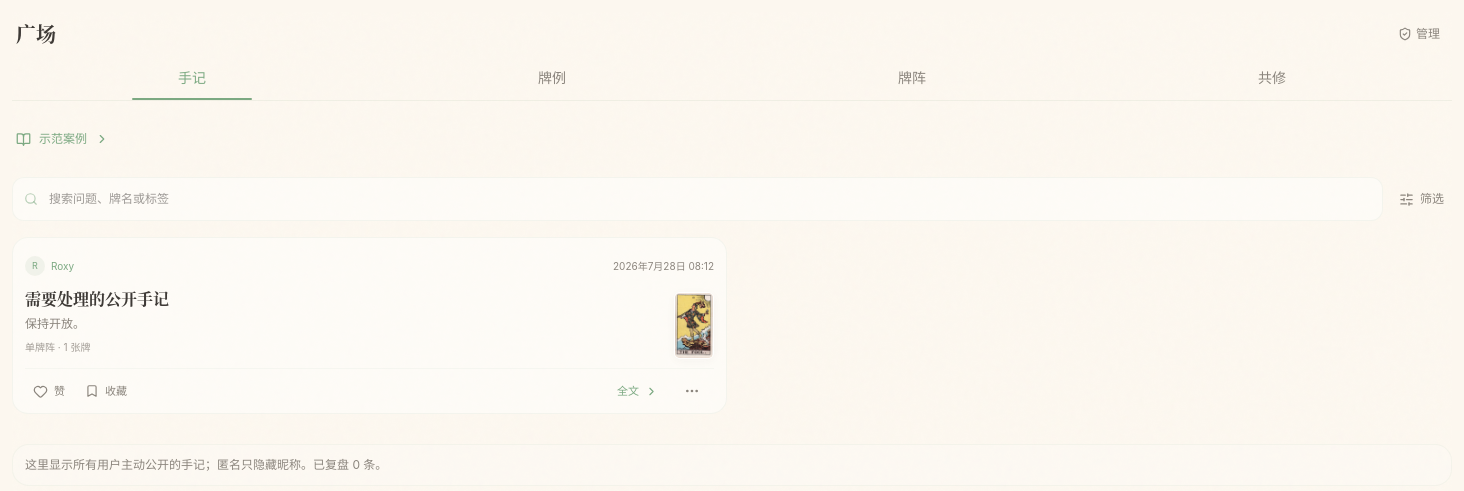
Test: PublicTab › shows moderation tools to the official moderator and can hide a reading
Click the button "管理".
click(1419, 34)  # box [1390, 12, 1448, 56]
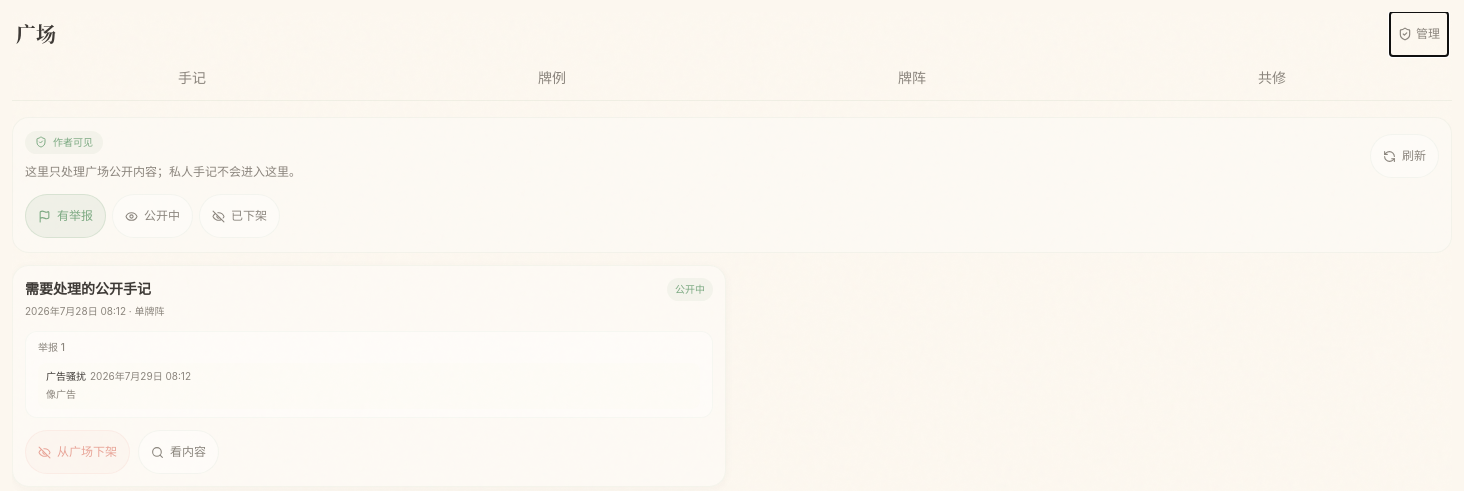
Check: the text "需要处理的公开手记" is shown, box [25, 278, 164, 300]
Check: the text "广告骚扰" is shown, box [46, 370, 86, 382]
Click the button "从广场下架".
click(78, 452)  # box [25, 430, 130, 474]
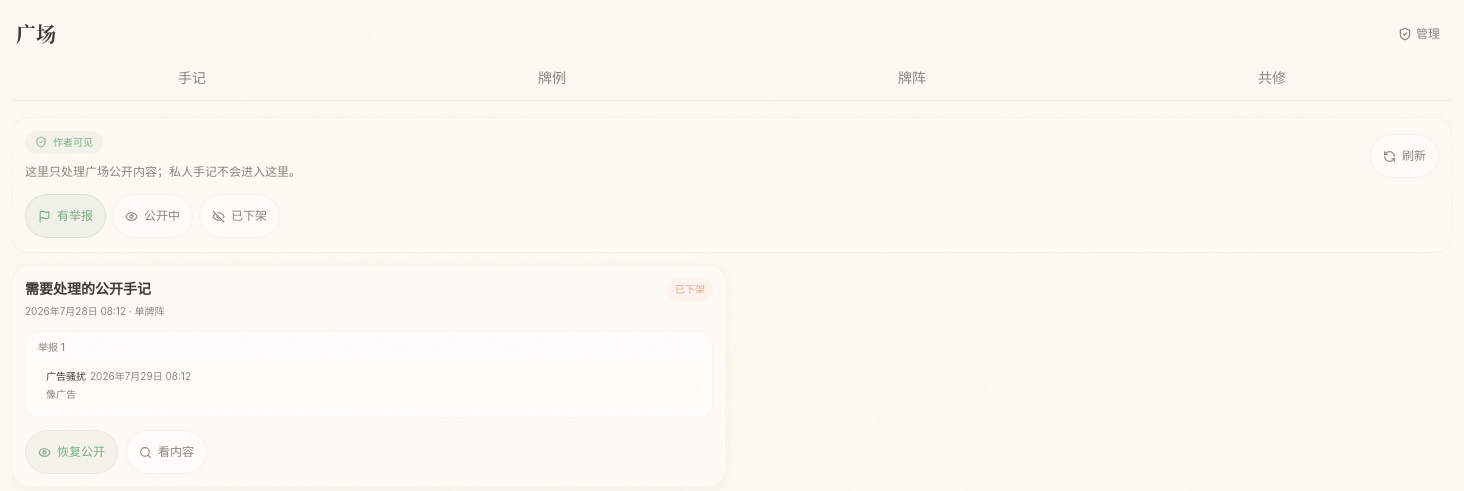
Check: the button "恢复公开" is shown, box [25, 430, 118, 474]
